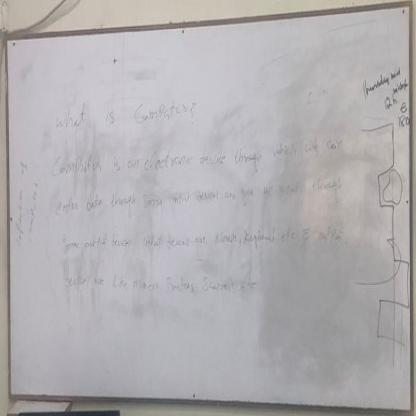Handwritten text: (47, 122, 348, 182), (49, 166, 346, 222), (59, 224, 341, 264), (53, 268, 245, 305), (55, 94, 192, 130)
Whiteboard: (4, 3, 413, 412)
